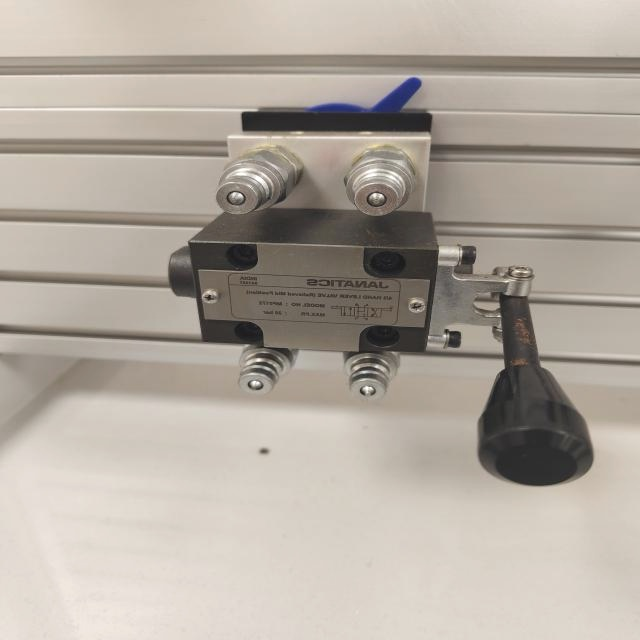4by3 hand lever valve: (158, 79, 598, 493)
